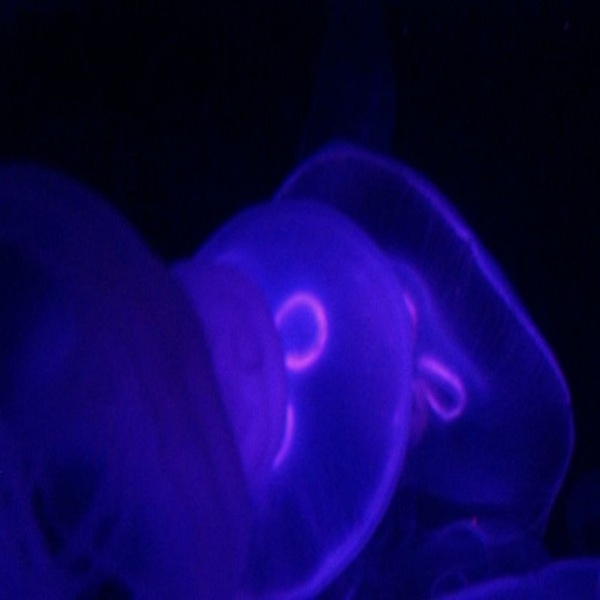Jellyfish: (274, 141, 572, 598), (199, 198, 416, 598)
